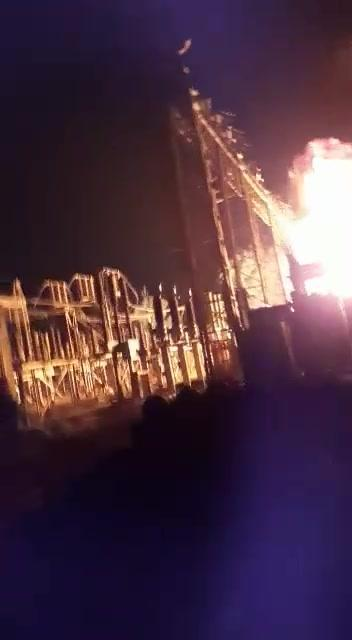fire: (274, 132, 352, 308)
